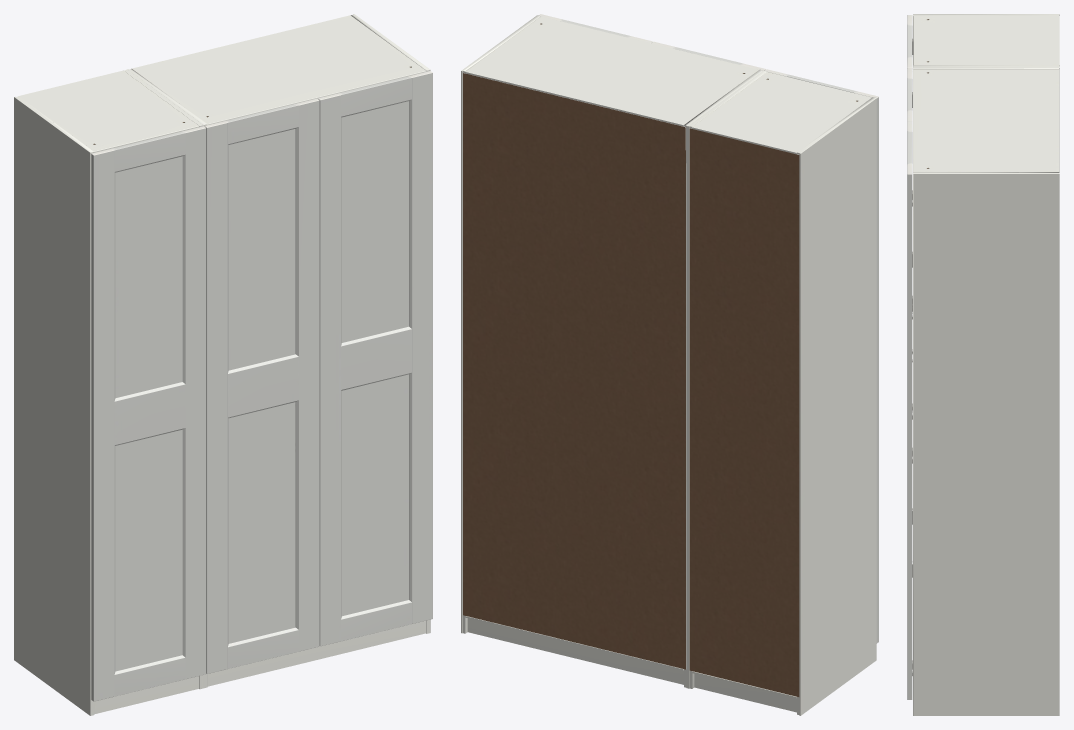
File: pax_grimo_kombinacja_szafy_69429730.glb
3 views of the same model, side by side, from view 1: azimuth 30°, elevation 25°; view 2: azimuth 150°, elevation 25°; view 3: azimuth 270°, elevation 25° (orthographic). The views are drawn at different scales.
Visible parts, largest first — view 1: pax_grimo_kombinacja_szafy_69429730; view 2: pax_grimo_kombinacja_szafy_69429730; view 3: pax_grimo_kombinacja_szafy_69429730.
Part boxes in pixels (x1,y1,x2,y2): pax_grimo_kombinacja_szafy_69429730: (14,14,432,715); pax_grimo_kombinacja_szafy_69429730: (461,14,878,715); pax_grimo_kombinacja_szafy_69429730: (907,14,1059,715).
Bounding box in the file's own units: 1.49 × 2.36 × 0.6015.
Materials: 1 (1 with a texture image).
